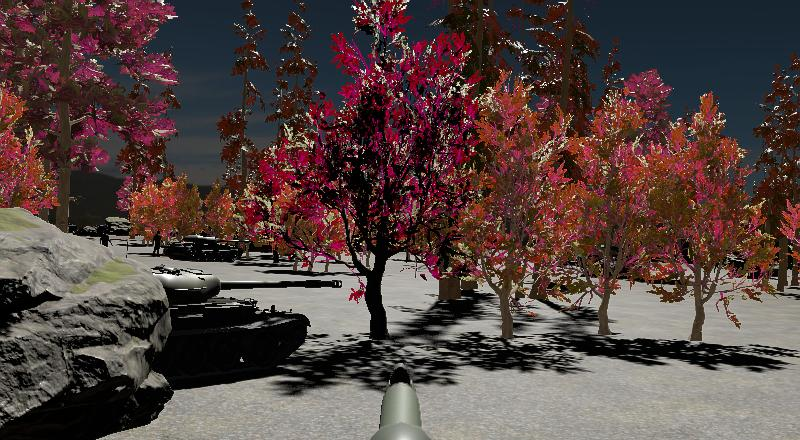Tank: (107, 262, 320, 385), (162, 231, 249, 265)
